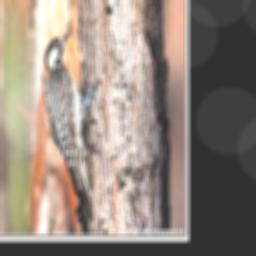Woodpecker: (36, 20, 109, 233)
